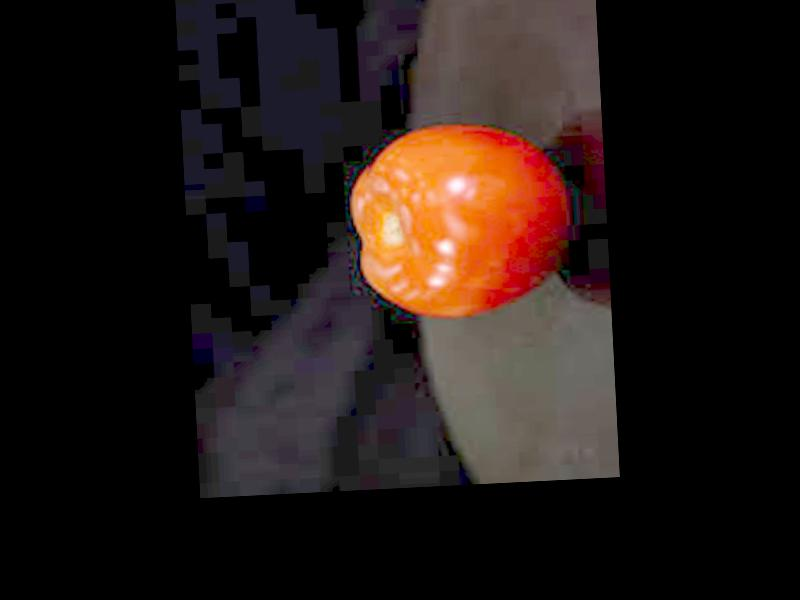Tomato: (344, 116, 574, 323)
